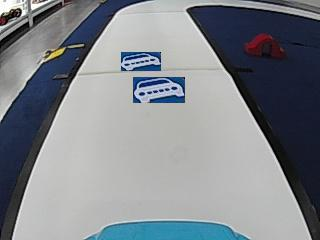bridge: (243, 31, 285, 59)
